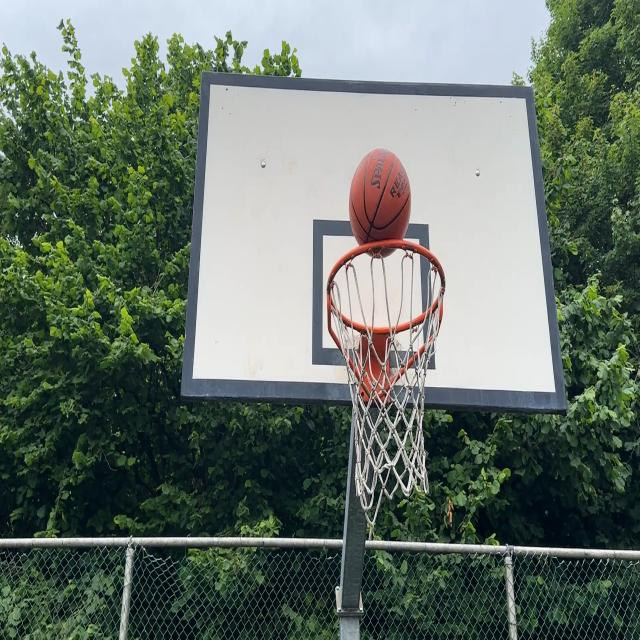rebound_hit: (348, 148, 411, 260)
